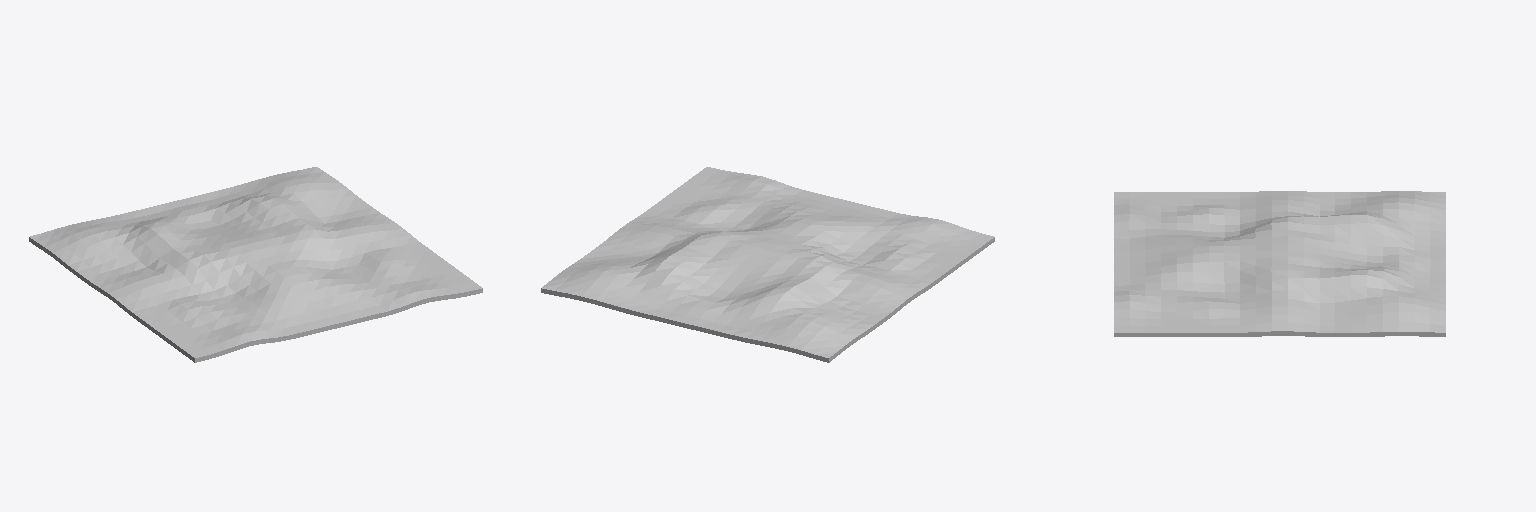
3 views of the same model, side by side, from view 1: azimuth 30°, elevation 25°; view 2: azimuth 150°, elevation 25°; view 3: azimuth 270°, elevation 25° (orthographic).
Visible parts, largest first — view 1: 立方体; view 2: 立方体; view 3: 立方体.
Part boxes in pixels (left/top/right/bottom): 立方体: left=29, top=167, right=482, bottom=362; 立方体: left=541, top=167, right=994, bottom=362; 立方体: left=1114, top=191, right=1445, bottom=336.
Bounding box in the file's own units: 2 × 0.1463 × 2.